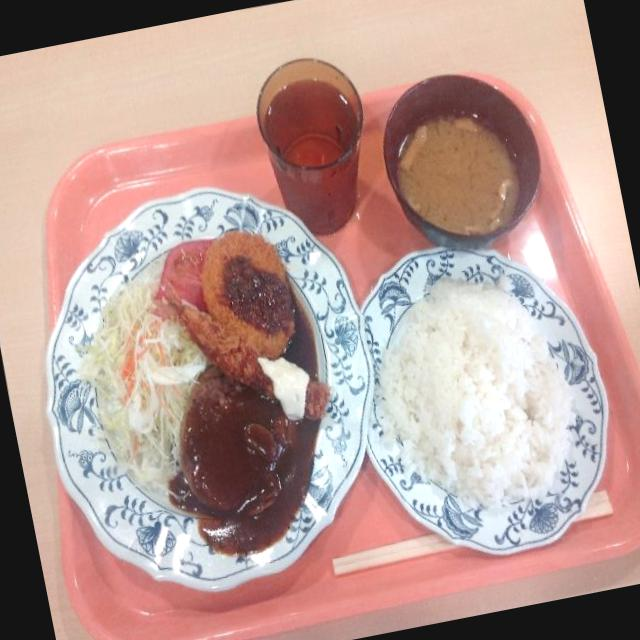Rice: (356, 247, 609, 545)
